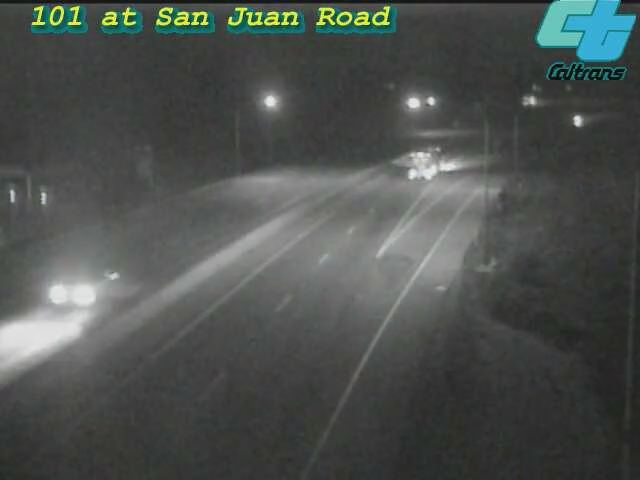vehicle: (28, 252, 108, 332), (389, 123, 469, 203), (553, 97, 603, 147)
